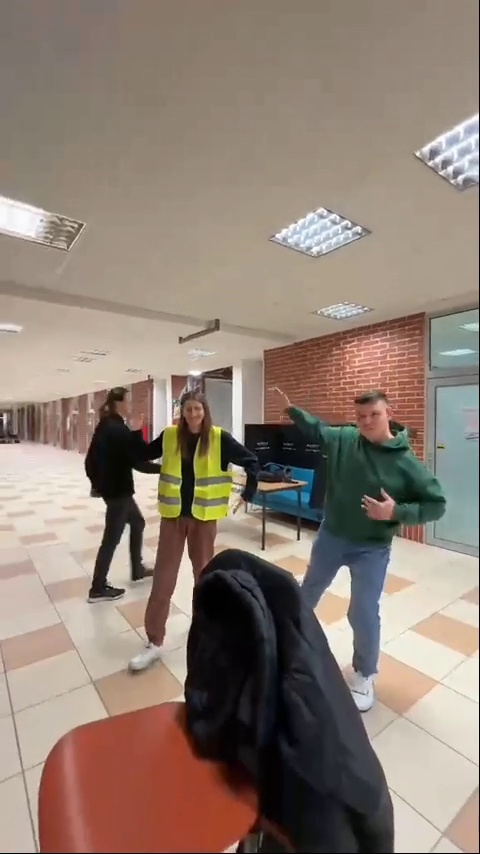no vest: (288, 378, 441, 702), (80, 380, 153, 600)
vest: (136, 390, 267, 676)
